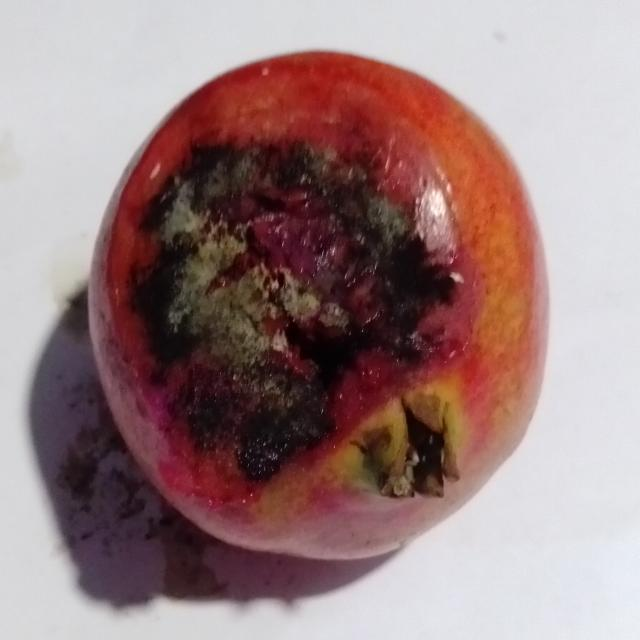Rotten: (82, 47, 550, 570)
